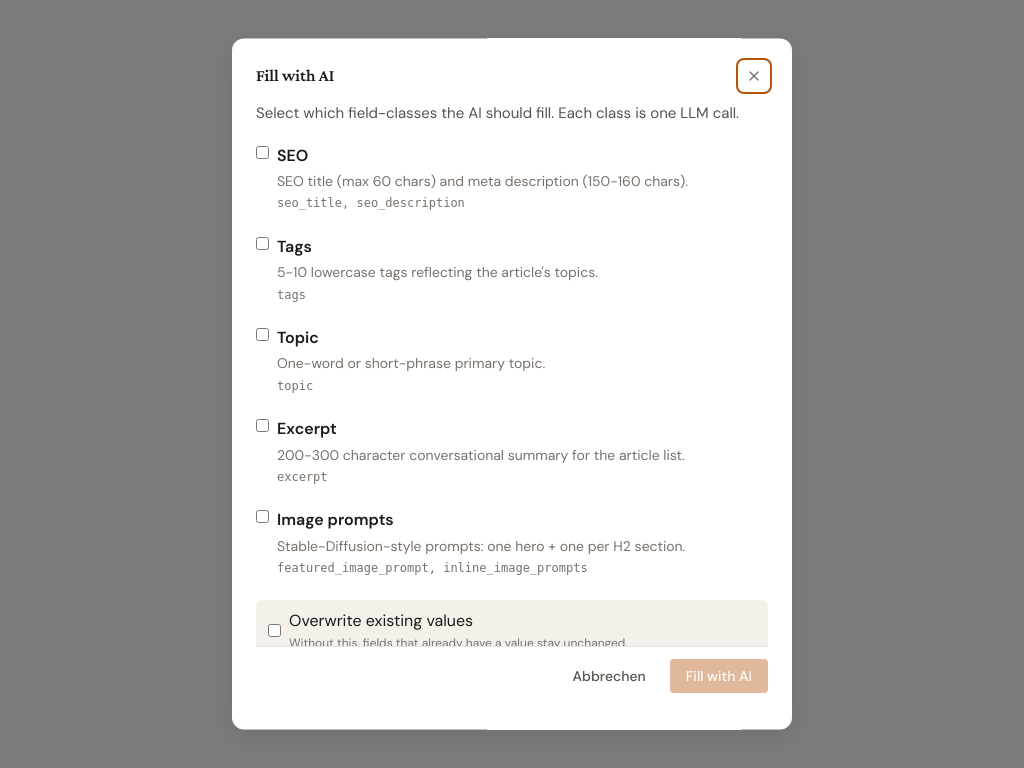
FieldClassDialog › inline_image_count input is hidden until image_prompts is selected
Click the checkbox with test id "field-class-checkbox-image_prompts". click: (262, 517)
box: top-left (256, 511), bottom-right (269, 524)
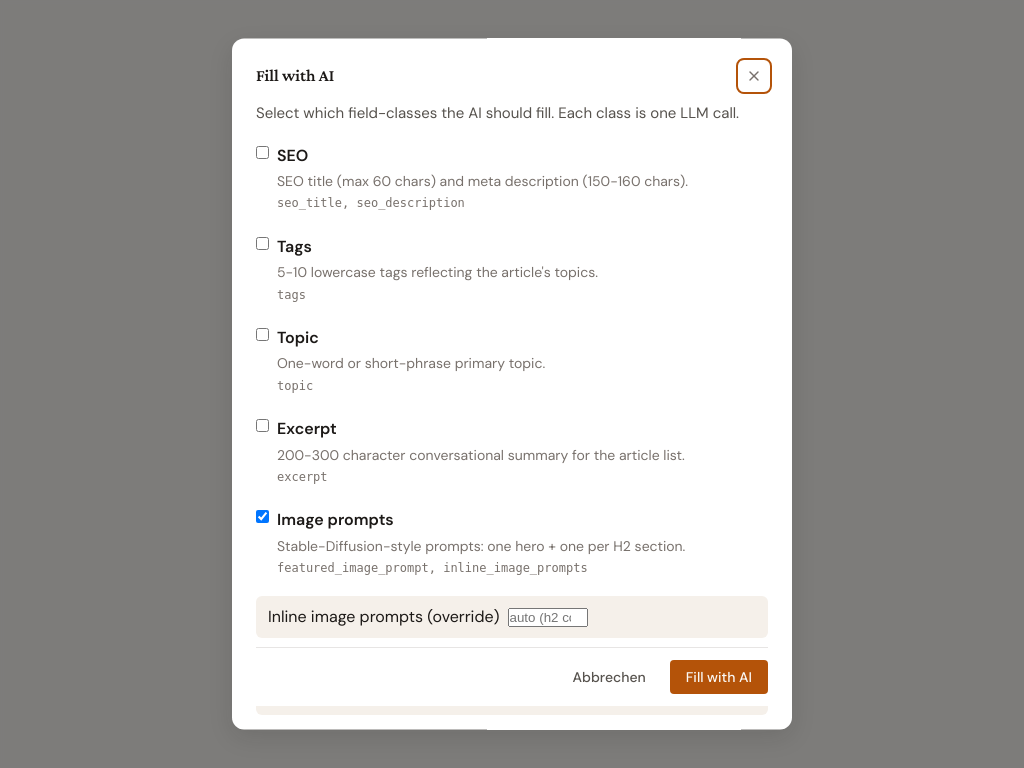
Check: the number field with test id "field-class-inline-count" is shown, box top-left (508, 608), bottom-right (588, 627)
